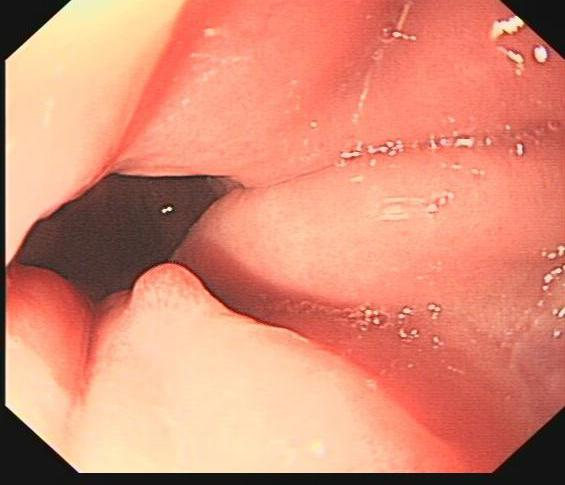Polyp: (118, 259, 215, 326)
